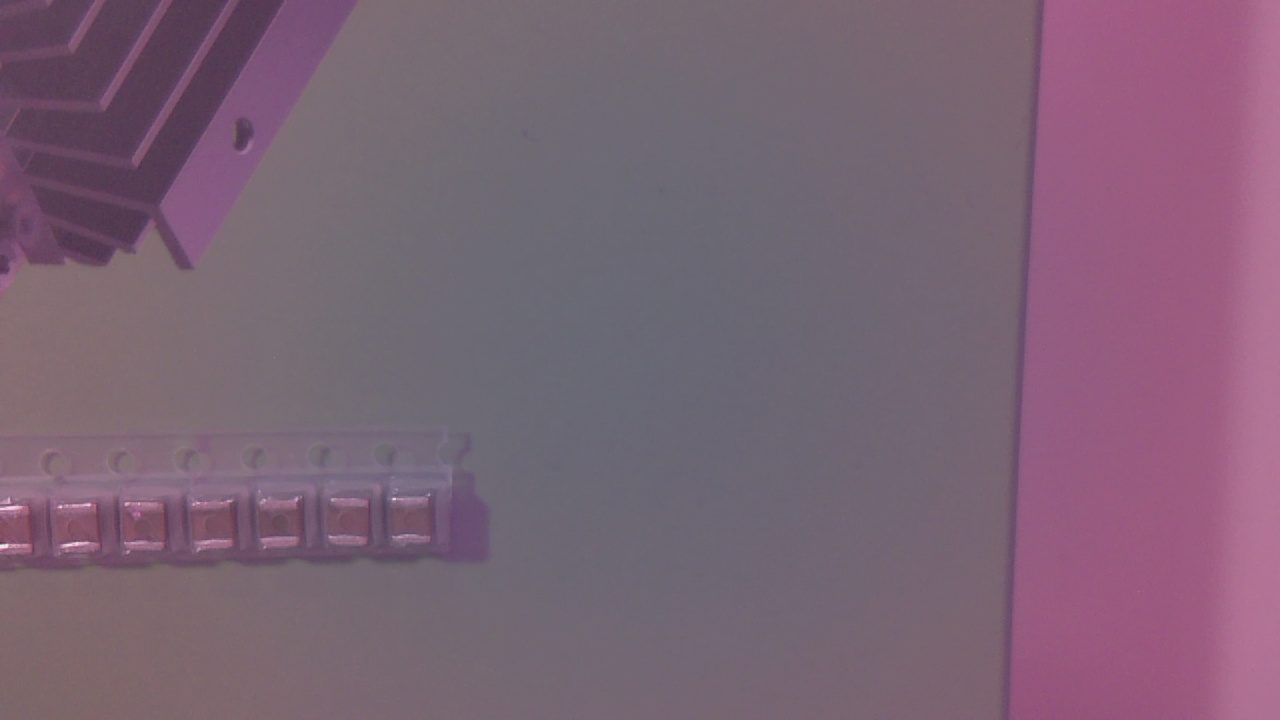Condensator: (59, 507, 108, 561), (395, 493, 440, 551), (262, 501, 307, 558), (125, 504, 173, 557), (195, 502, 242, 556), (332, 497, 378, 550), (7, 505, 33, 560)
